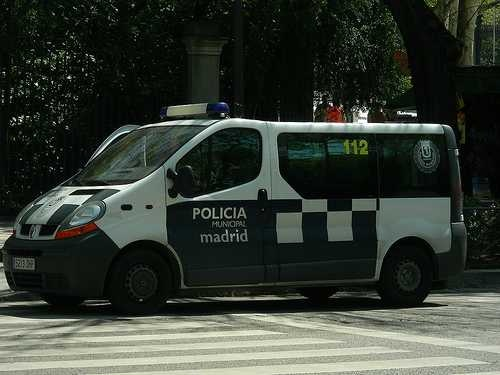Police Van: (10, 98, 478, 312)
